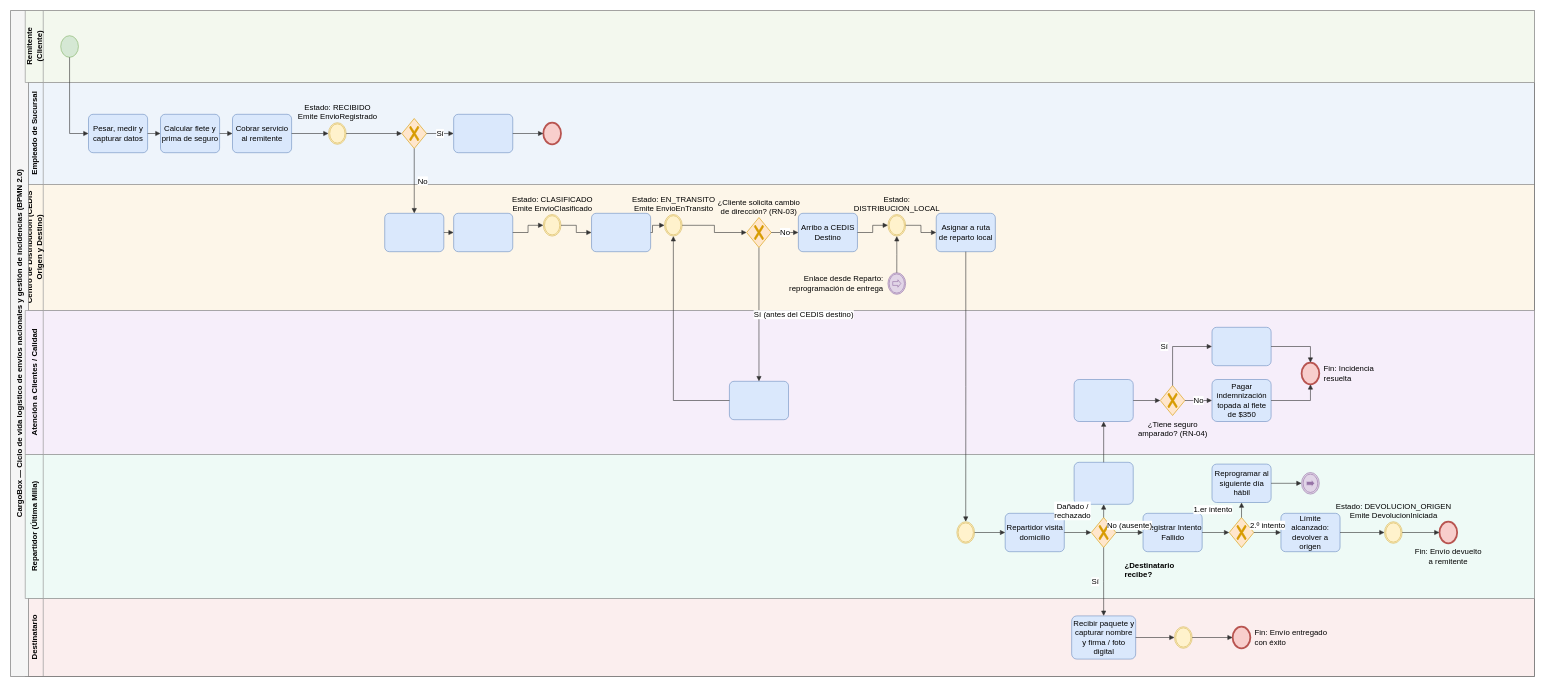
The diagram is 1545 pixels wide and 687 high, and some of its shapes have lost their labels. The shapes that lost their labels are listed below. From the top down, each one's box as (x1, y1, x2, y2) in pixels, then its label:
(60, 35, 78, 57): Inicio: Cliente acude a Sucursal
(401, 118, 427, 148): ¿Cliente solicita cancelar? (RN-01)
(453, 114, 513, 153): Cancelar envío y reembolsar
(543, 122, 561, 144): Fin: Envío CANCELADO
(384, 213, 444, 252): Traslado a CEDIS Origen
(453, 213, 513, 252): Clasificación automática por Código Postal
(591, 213, 651, 252): Despachar a camión foráneo
(1211, 327, 1271, 366): Pagar valor declarado hasta 100%
(729, 381, 789, 420): Actualizar dirección de entrega
(1074, 379, 1133, 422): Analista de Calidad dictamina indemnización
(1074, 462, 1133, 504): Registrar incidencia de daño con fotografía (RN-09)
(1301, 472, 1319, 494): Enlace a: DISTRIBUCION_LOCAL
(956, 521, 975, 543): Estado: EN_REPARTO
(1229, 517, 1254, 548): ¿Número de intento? (RN-02)
(1174, 626, 1192, 648): Estado: ENTREGADO Emite EnvioEntregado
